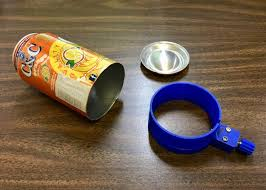can: (12, 29, 133, 128)
